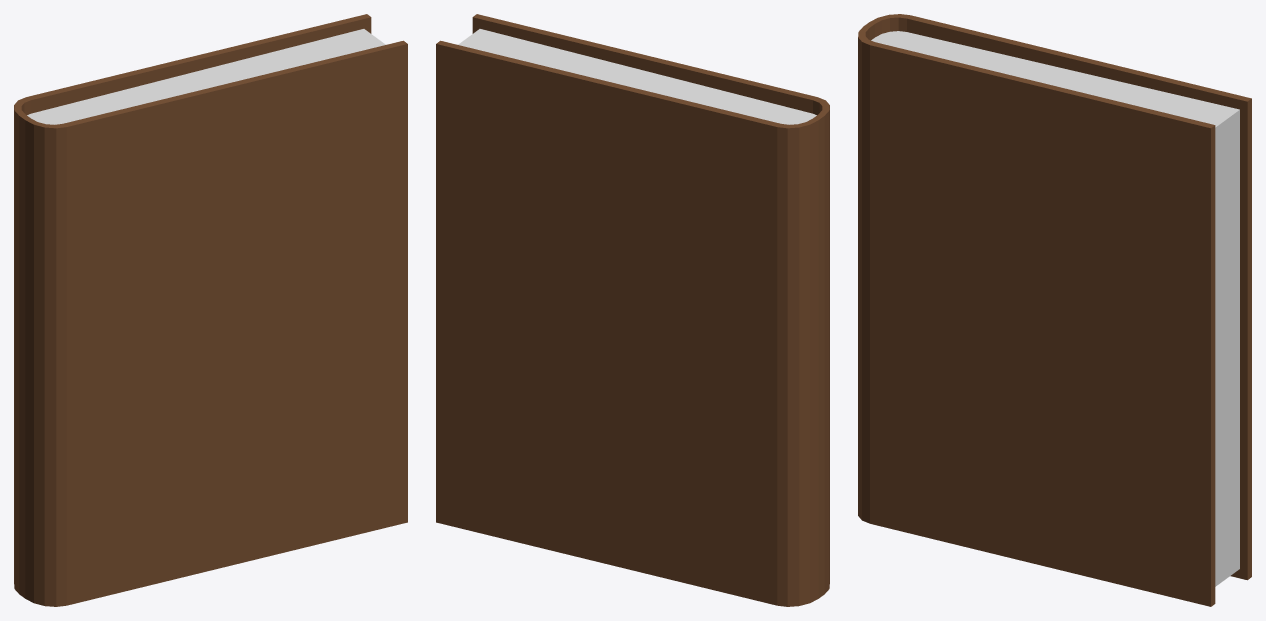
Rendered from book_3.fbx.
The picture shows the model from 3 angles, left to right: view 1: azimuth 30°, elevation 25°; view 2: azimuth 150°, elevation 25°; view 3: azimuth 330°, elevation 25°; orthographic projection.
Parts seen in each view (by area): view 1: book_3_export; view 2: book_3_export; view 3: book_3_export.
Boxes of the visible parts, left/top/right/bottom form: book_3_export: left=14, top=14, right=407, bottom=606; book_3_export: left=436, top=14, right=829, bottom=606; book_3_export: left=858, top=14, right=1251, bottom=606.
Bounding box in the file's own units: 45.3 × 56.75 × 8.77.
